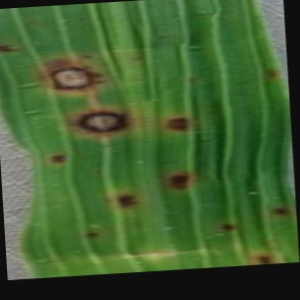Bacterial_Leaf_Blight: (60, 98, 140, 149), (36, 52, 112, 98), (160, 166, 199, 195), (161, 108, 194, 139), (112, 191, 141, 212), (249, 249, 282, 264), (48, 148, 70, 169), (0, 41, 22, 56), (218, 219, 240, 233), (268, 203, 290, 217), (263, 65, 281, 81), (156, 30, 175, 43), (80, 229, 99, 241), (79, 51, 97, 62), (130, 52, 146, 64), (189, 75, 199, 84)
